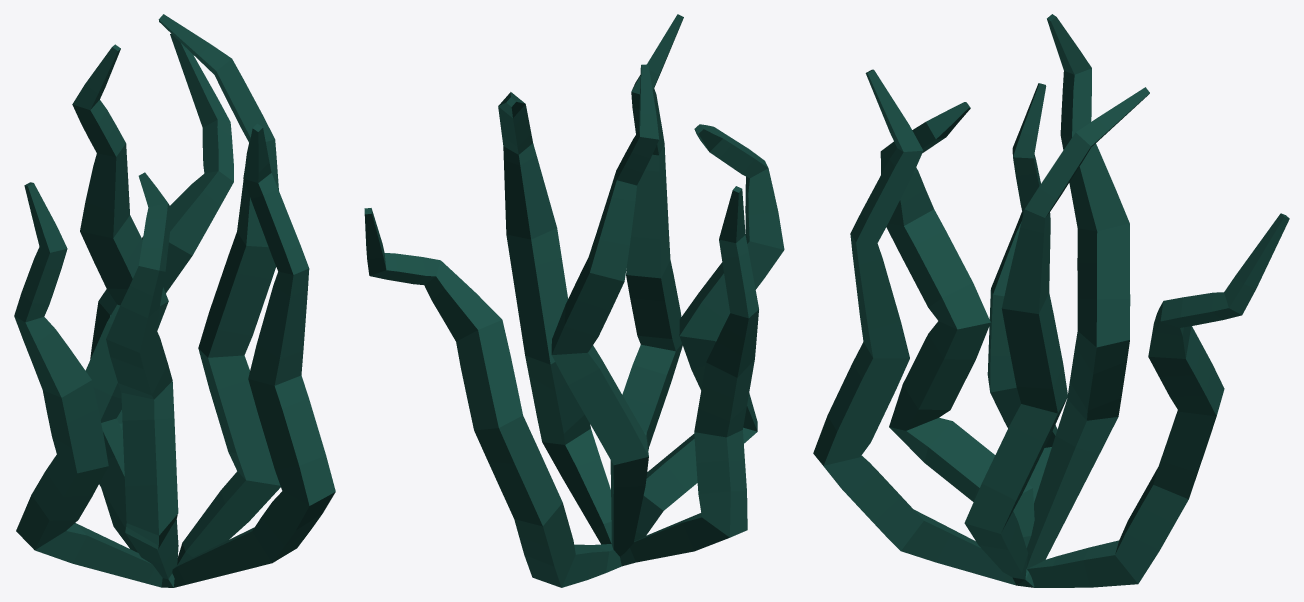
File: AlgaSMALL.glb
3 views of the same model, side by side, from view 1: azimuth 30°, elevation 25°; view 2: azimuth 150°, elevation 25°; view 3: azimuth 270°, elevation 25° (orthographic). The views are drawn at different scales.
Visible parts, largest first — view 1: Vert.001; view 2: Vert.001; view 3: Vert.001.
Part boxes in pixels (x1,y1,x2,y2): Vert.001: (14, 14, 335, 587); Vert.001: (364, 14, 784, 587); Vert.001: (813, 14, 1289, 587).
Size of the model in its own units: 0.4042 by 0.6778 by 0.5348.
